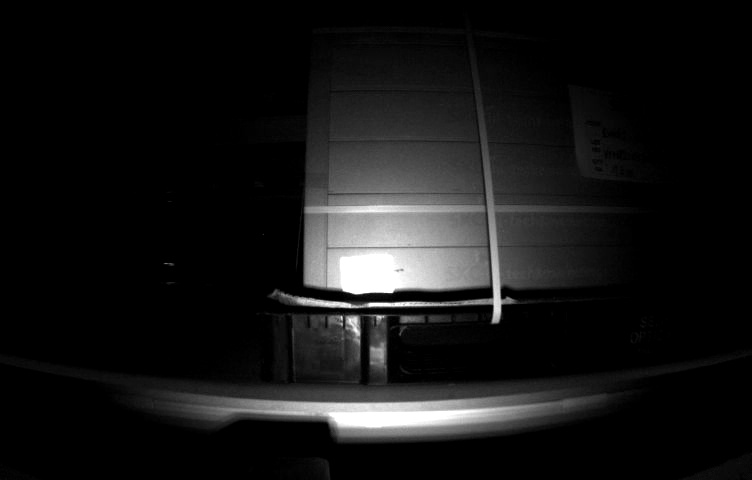True Barcode: (337, 252, 396, 297)
